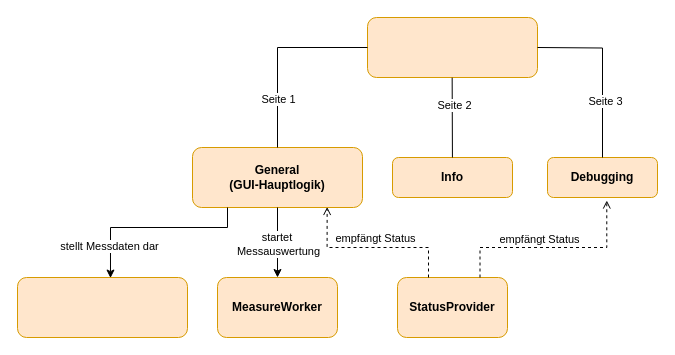
The diagram is 675 pixels wide and 355 high, and some of its shapes have lost their labels. The centre of each missing label's shape, as x and y in pixels:
MatplotlibWidget (Plot und Cursor): point (102, 307)
StackedWidgetApp (Main Window mit Tabs): point (452, 47)
